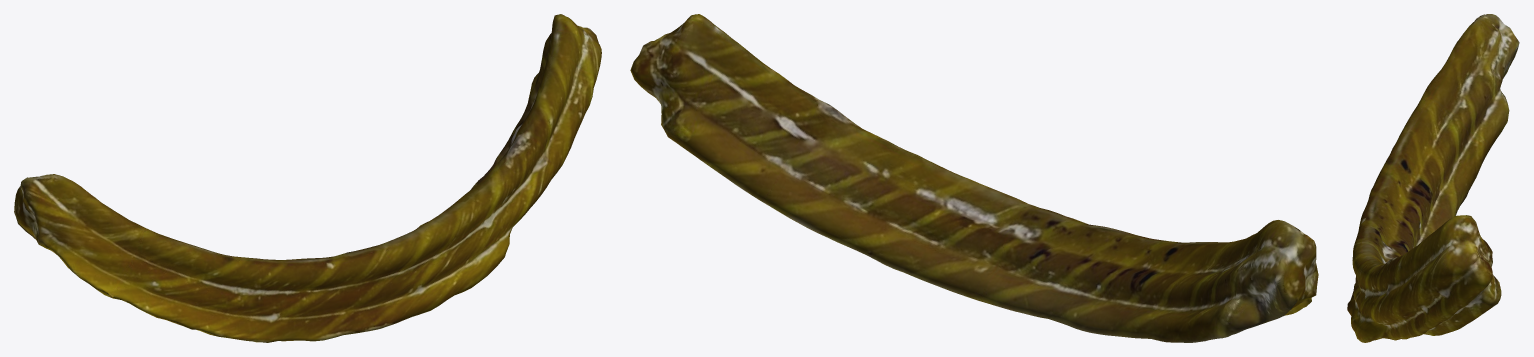
Rendered from Bangle.glb.
3 renders of one model, left to right at view 1: azimuth 30°, elevation 25°; view 2: azimuth 150°, elevation 25°; view 3: azimuth 270°, elevation 25°, orthographic. The views are drawn at different scales.
Visible parts, largest first — view 1: EMB_AGR-Bangle; view 2: EMB_AGR-Bangle; view 3: EMB_AGR-Bangle.
Part boxes in pixels (<box>): EMB_AGR-Bangle: <box>14,14,601,342</box>; EMB_AGR-Bangle: <box>630,14,1318,342</box>; EMB_AGR-Bangle: <box>1347,14,1519,342</box>.
Bounding box in the file's own units: 0.3644 × 0.1314 × 0.098.
1 material, 1 textured.
